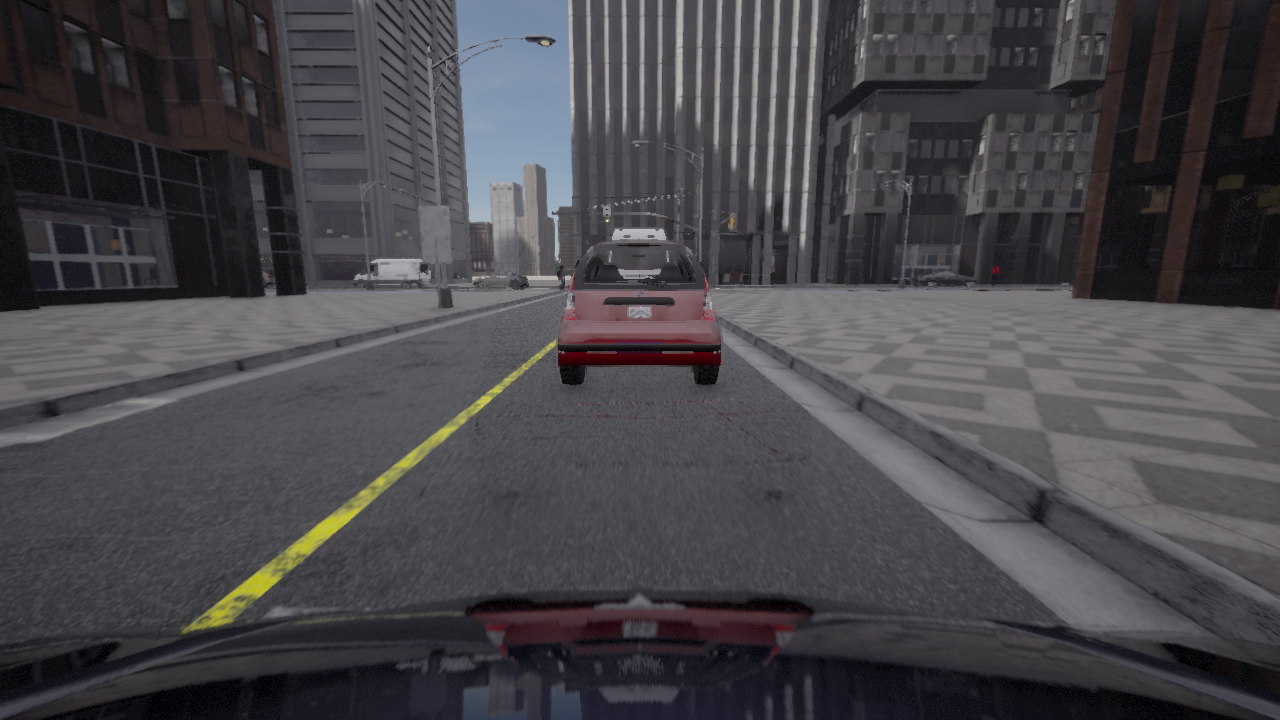cyclist: (0, 588, 1279, 719), (557, 240, 721, 385), (352, 257, 430, 288), (909, 270, 977, 287), (475, 272, 527, 288), (611, 228, 667, 240), (262, 269, 275, 288)
pedestrian: (991, 262, 1000, 287), (559, 265, 565, 290)
